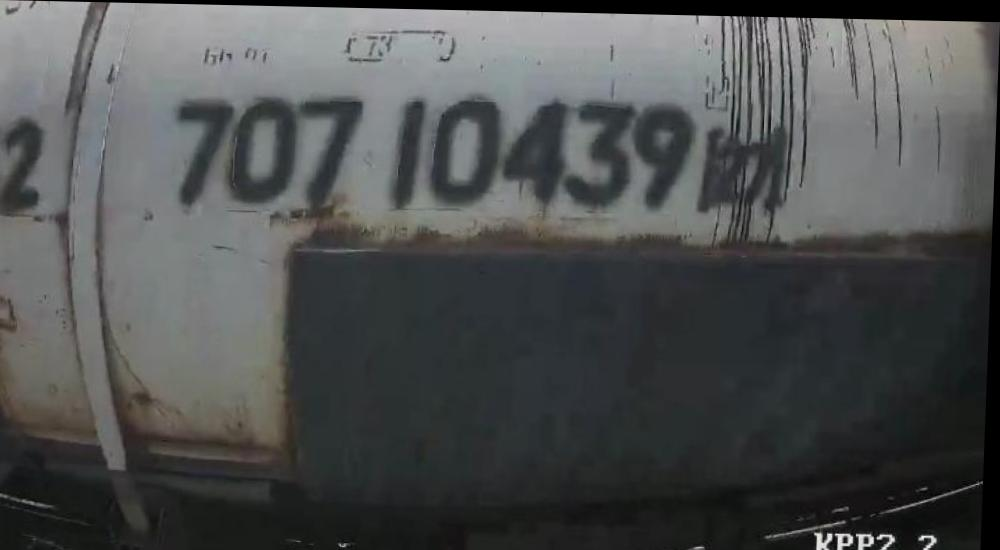Wagon-number: (166, 87, 699, 216)
